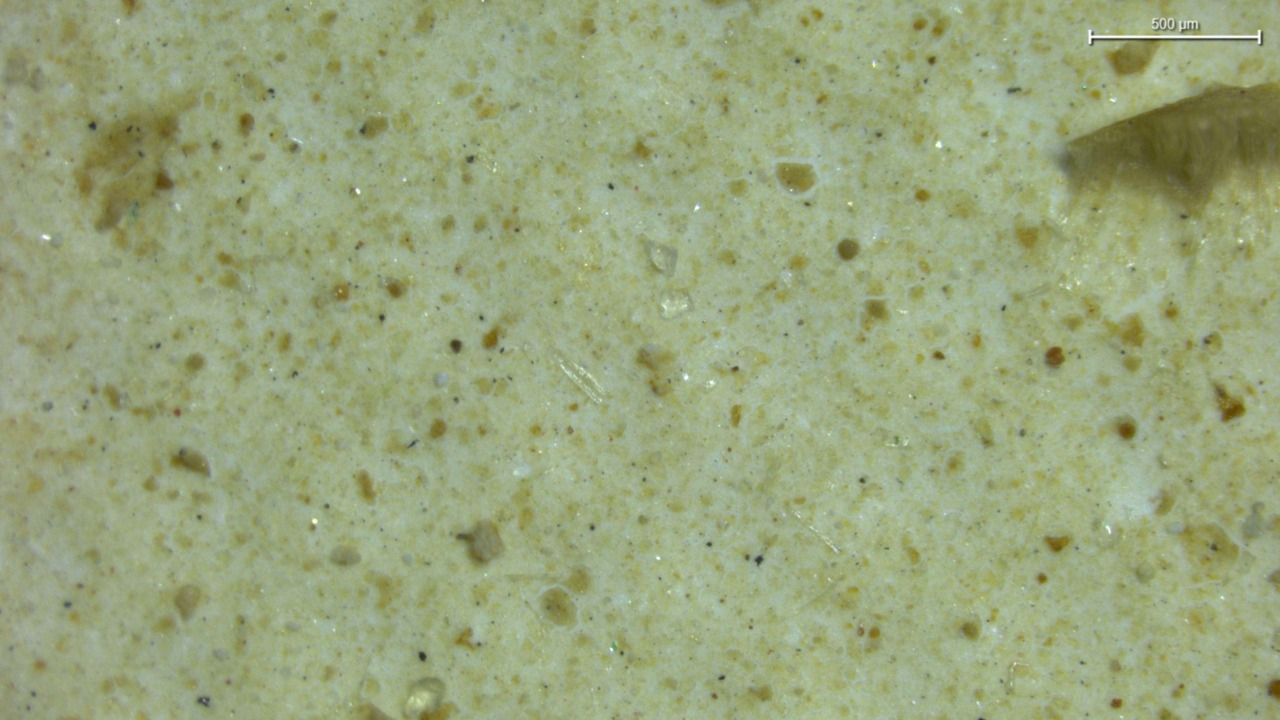microplastic_fragment: (456, 520, 504, 563), (644, 239, 678, 275), (659, 292, 691, 318)
